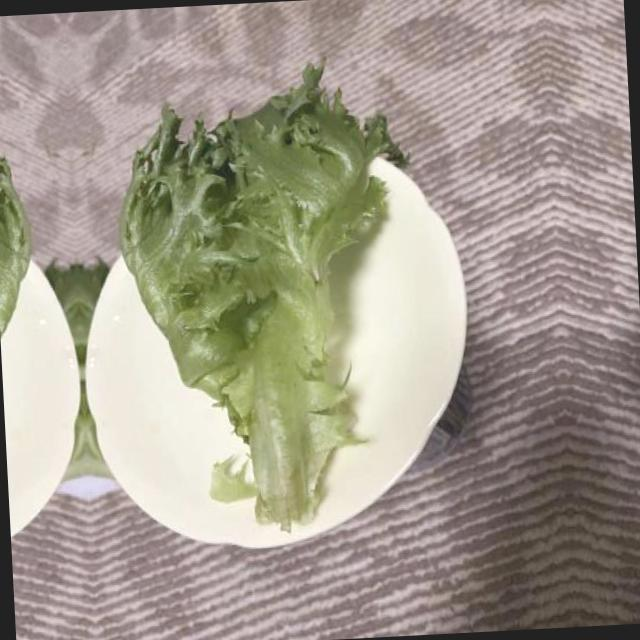healthy: (108, 46, 414, 536), (0, 64, 49, 542)
